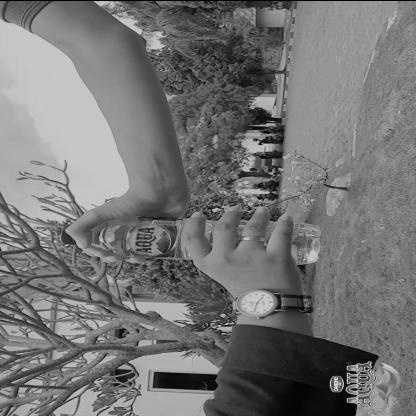plastic_bottles: (59, 209, 325, 266)
